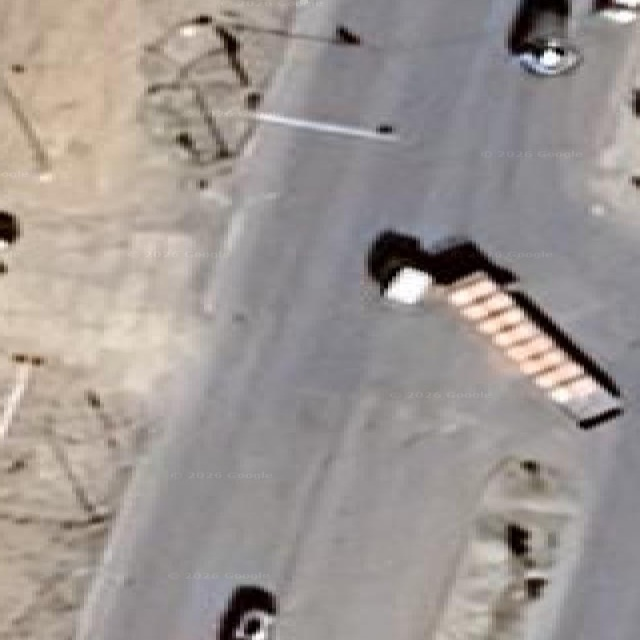car: (507, 0, 580, 75), (517, 36, 580, 74), (593, 0, 639, 23)
